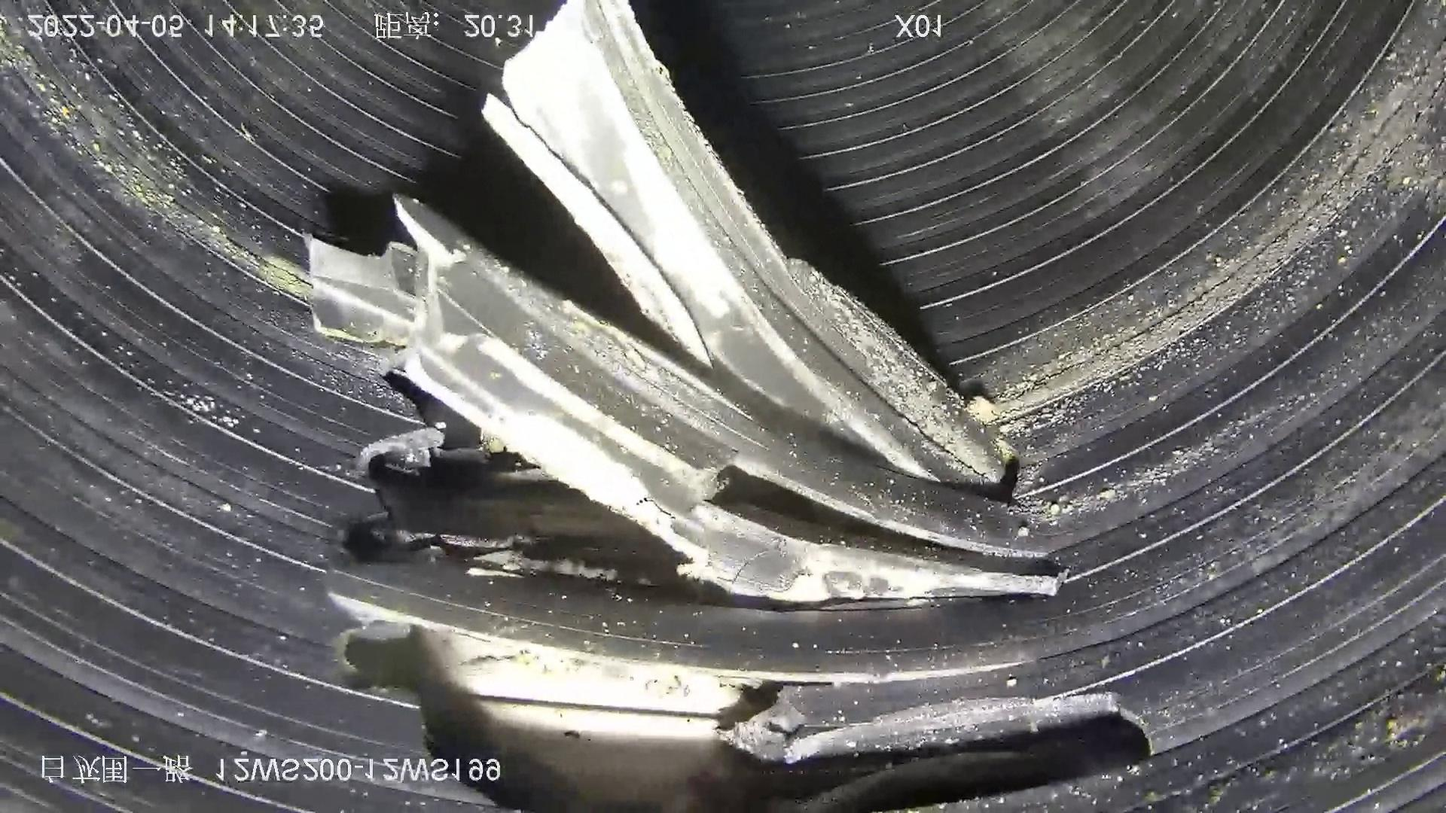PL: (323, 8, 1164, 813)
